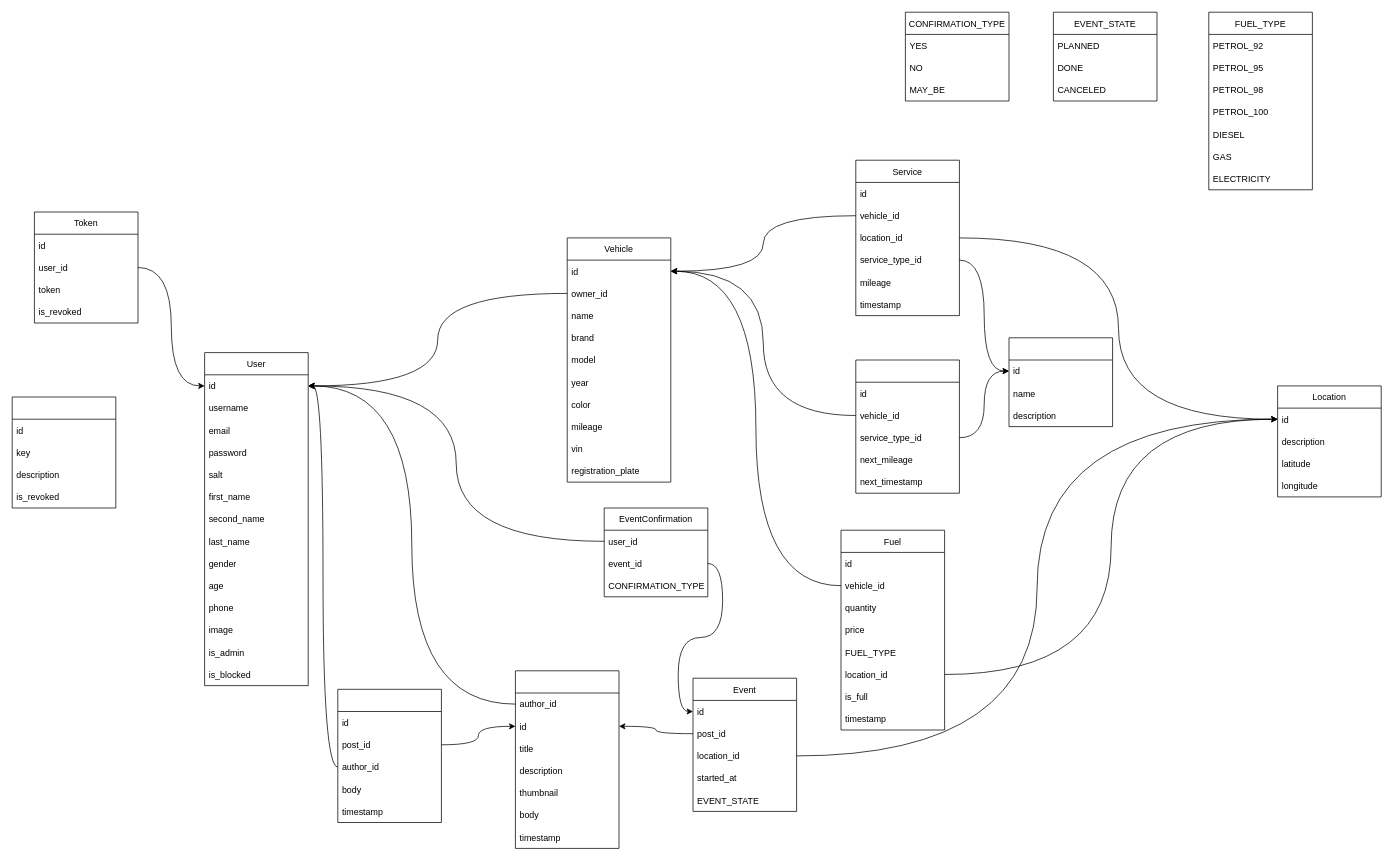
The diagram is 1393 pixels wide and 861 high, and some of its shapes have lost their labels. Here are the shapes that lost their labels. From the top down, the box of each, then its label:
(1008, 337, 1113, 427): ServiceType
(855, 359, 959, 493): Reminder
(11, 396, 116, 508): ApiKeys
(337, 689, 441, 823): Comment
(515, 670, 619, 848): Post
